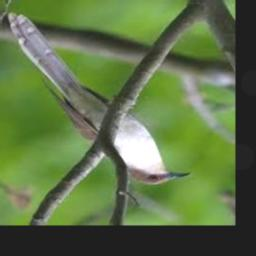Cuckoo: (7, 12, 191, 184)
